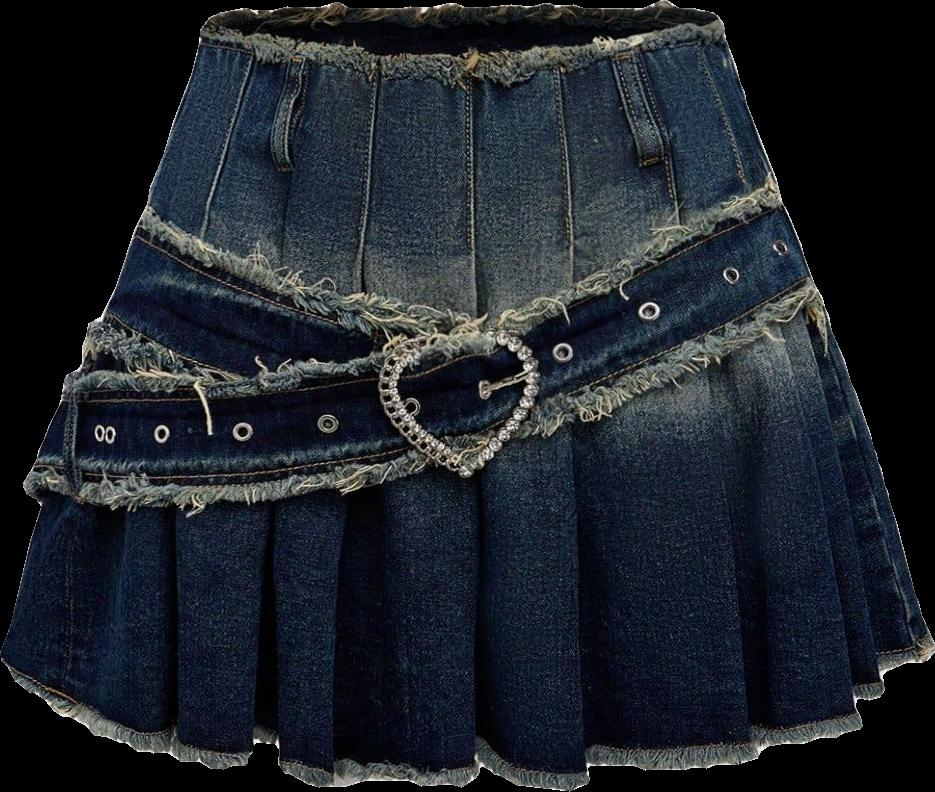Hemline: (2, 642, 934, 788)
Waistline: (201, 13, 718, 67)
